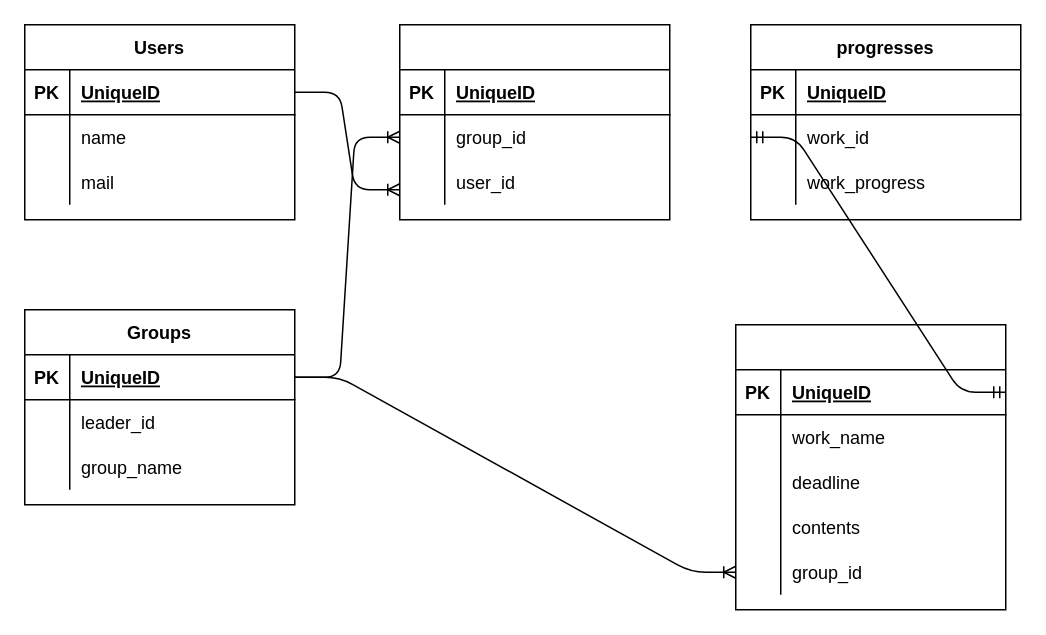
The diagram is 1046 pixels wide and 635 high, and some of its shapes have lost their labels. Here are the shapes that lost their labels. From the top down, the box of each, then its label:
(398, 23, 670, 220): user_groups
(734, 323, 1006, 610): works
